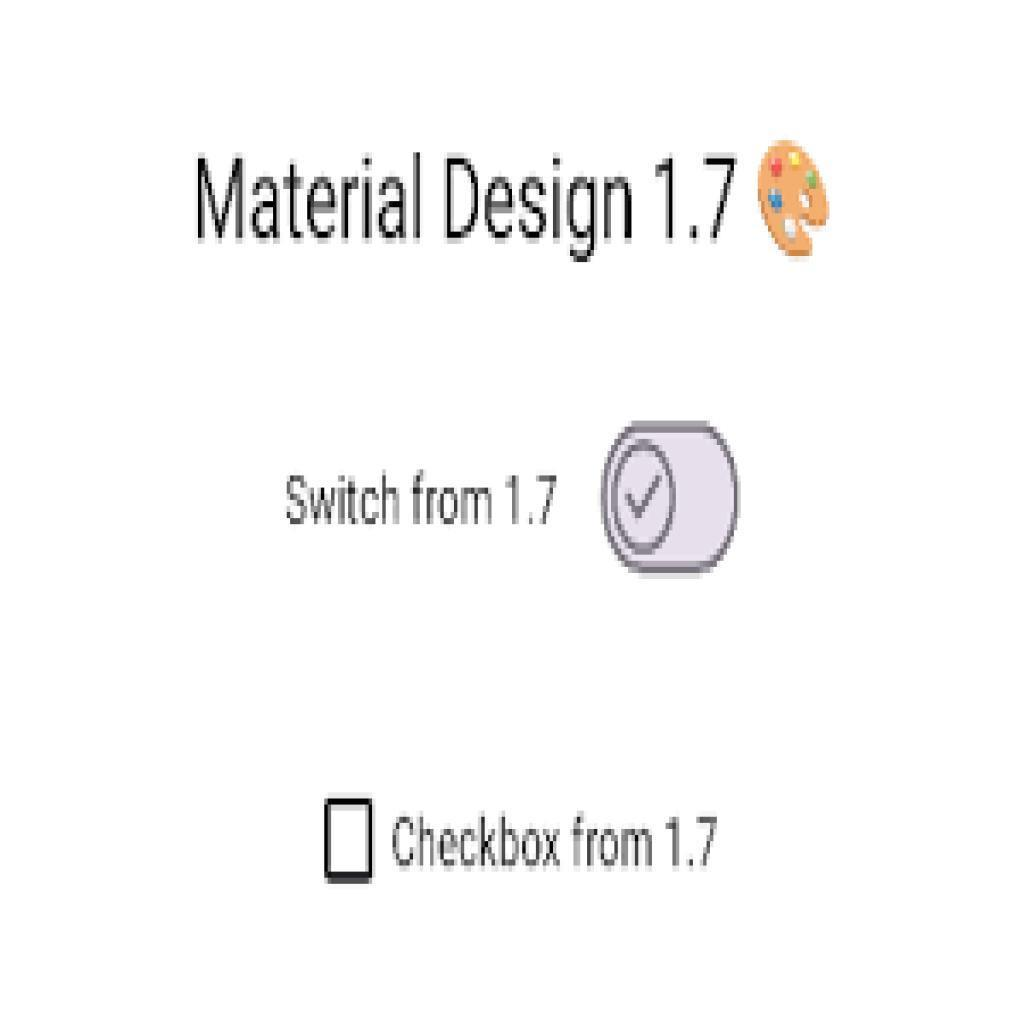checkbox: (325, 799, 375, 878)
label: (197, 150, 737, 256), (397, 807, 727, 878), (281, 465, 561, 540)
switch: (602, 419, 742, 576)
